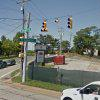Traffic light: (34, 12, 78, 35)
